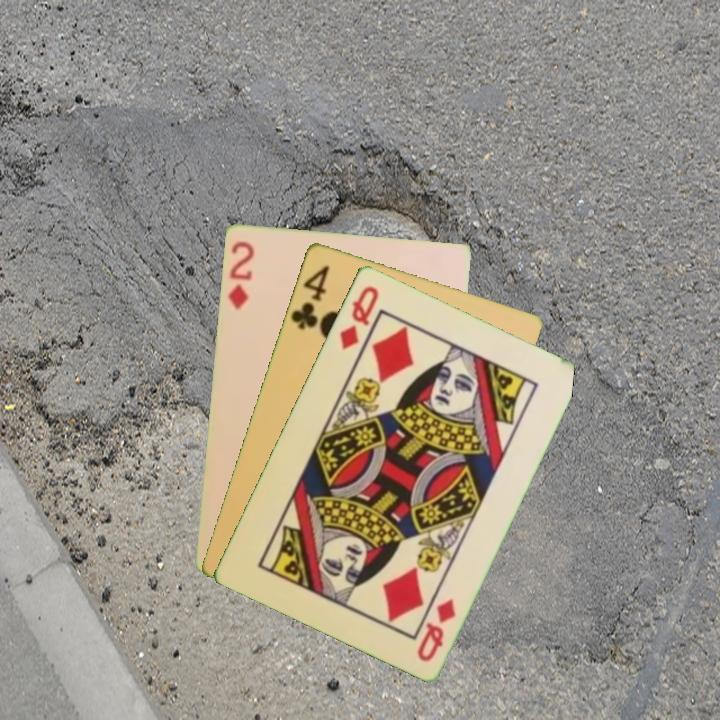2d: (224, 237, 257, 312)
4c: (287, 261, 332, 332)
Qd: (335, 281, 382, 353), (413, 594, 459, 664)
